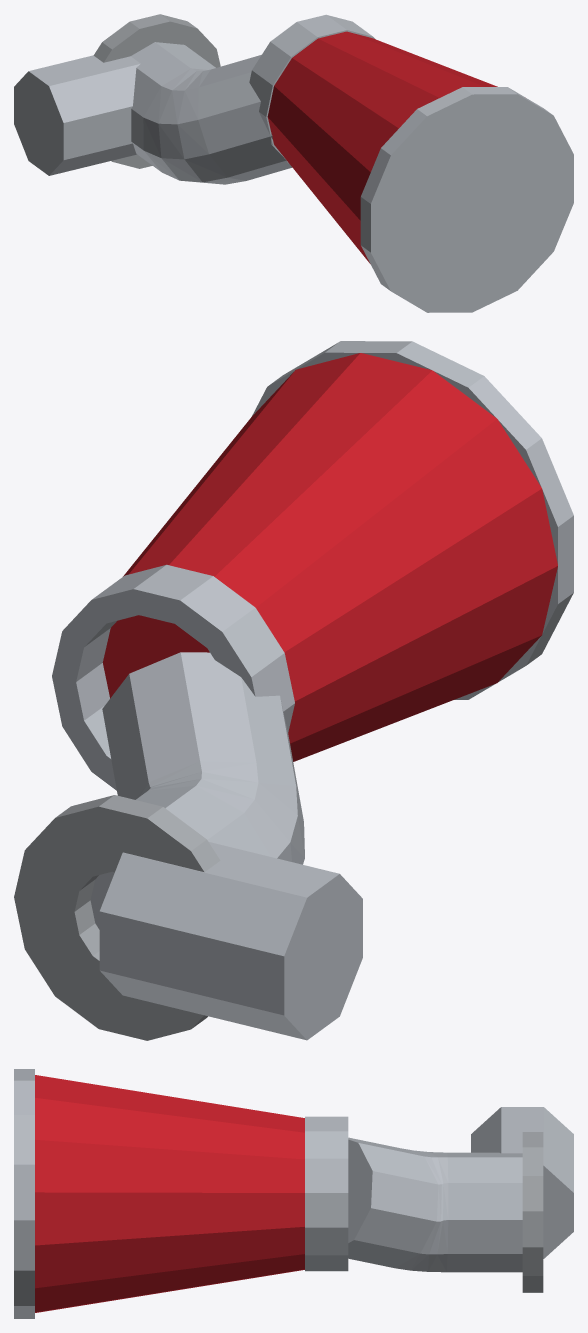
Rendered from intake_filter_street.glb.
3 views of the same model, one above another, from view 1: azimuth 30°, elevation 25°; view 2: azimuth 150°, elevation 25°; view 3: azimuth 270°, elevation 25° (orthographic). The views are drawn at different scales.
Parts seen in each view (by area): view 1: model; view 2: model; view 3: model.
Boxes of the visible parts, x1,y1,x2,y2 form: model: (14,14,573,312); model: (14,341,573,1040); model: (14,1069,573,1318).
Size of the model in its own units: 0.2 by 0.1528 by 0.3216.
2 materials, 1 textured.
